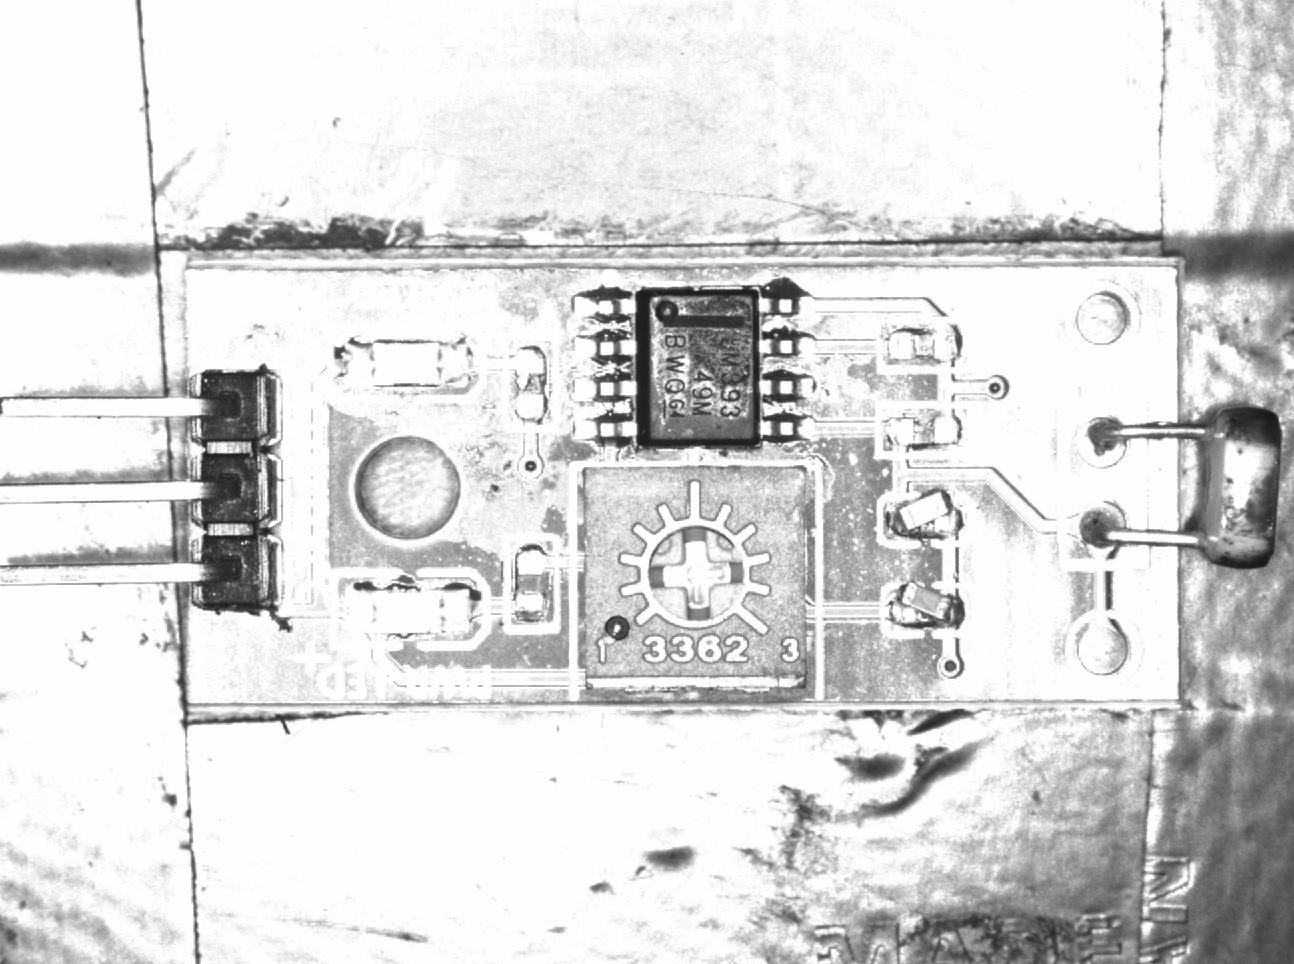lifted: (881, 577, 969, 637), (879, 491, 971, 547)
miss: (504, 338, 559, 434), (877, 403, 972, 458), (509, 538, 560, 630), (880, 319, 965, 374)
